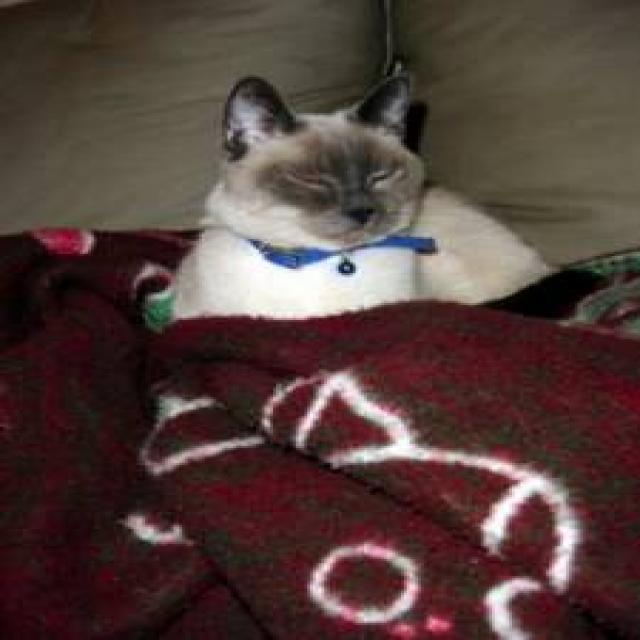Siamese: (207, 64, 436, 253)
